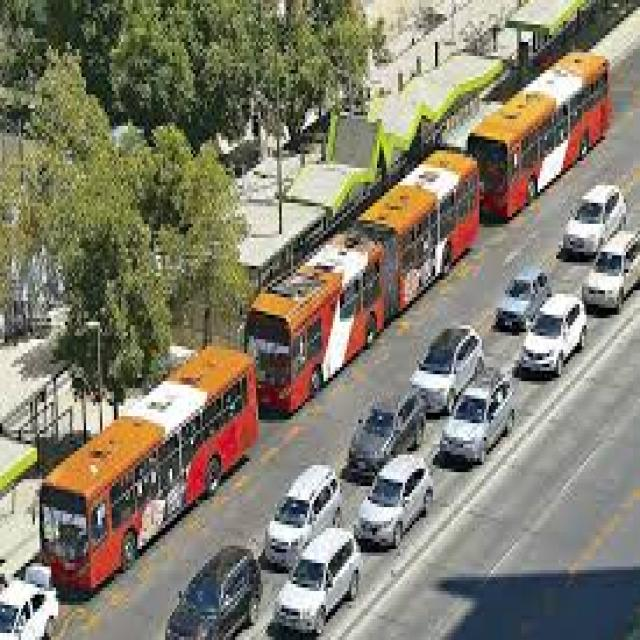AB: (235, 143, 484, 434)
